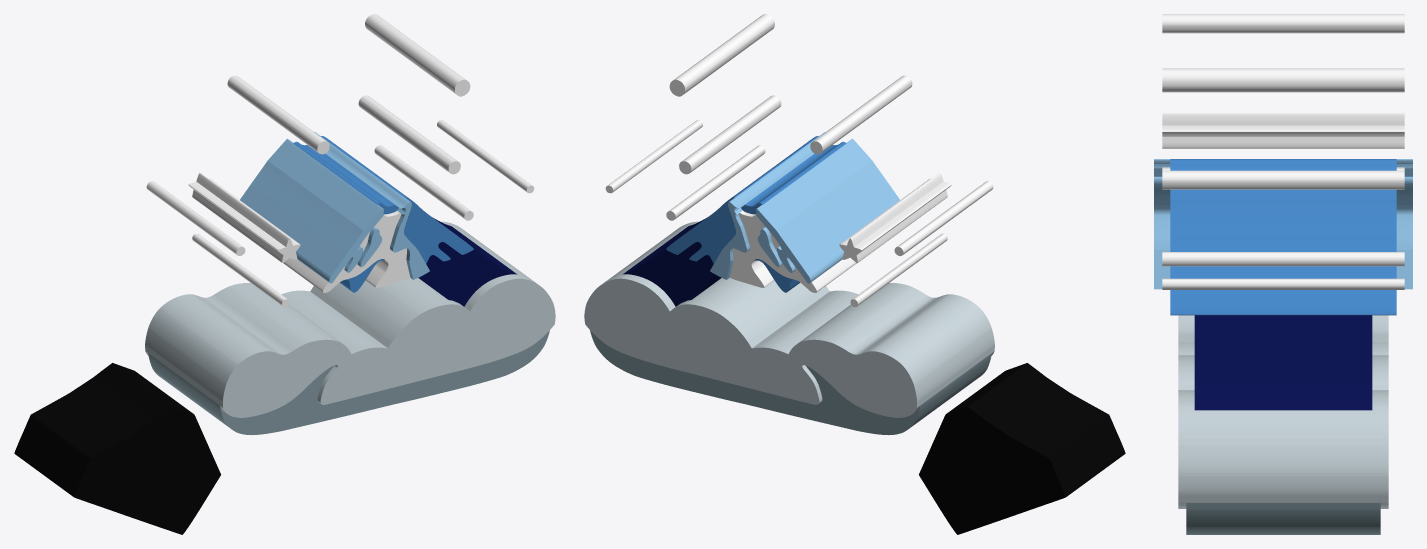
3 views of the same model, side by side, from view 1: azimuth 30°, elevation 25°; view 2: azimuth 150°, elevation 25°; view 3: azimuth 270°, elevation 25° (orthographic). The views are drawn at different scales.
Parts seen in each view (by area): view 1: U+1F5FB_layer03_obj00, U+1F5FB_layer00_obj00, U+1F5FB_layer06_obj02, U+1F5FB_layer02_obj00, U+1F5FB_layer04_obj00, U+1F5FB_layer01_obj00, U+1F5FB_layer05_obj07, U+1F5FB_layer05_obj00, U+1F5FB_layer06_obj00, U+1F5FB_layer05_obj01, U+1F5FB_layer05_obj08, U+1F5FB_layer05_obj05 (+4 smaller); view 2: U+1F5FB_layer03_obj00, U+1F5FB_layer00_obj00, U+1F5FB_layer06_obj02, U+1F5FB_layer02_obj00, U+1F5FB_layer04_obj00, U+1F5FB_layer01_obj00, U+1F5FB_layer05_obj07, U+1F5FB_layer05_obj00, U+1F5FB_layer06_obj00, U+1F5FB_layer05_obj01, U+1F5FB_layer05_obj08, U+1F5FB_layer05_obj05 (+4 smaller); view 3: U+1F5FB_layer04_obj00, U+1F5FB_layer03_obj00, U+1F5FB_layer01_obj00, U+1F5FB_layer05_obj07, U+1F5FB_layer02_obj00, U+1F5FB_layer05_obj01, U+1F5FB_layer05_obj05, U+1F5FB_layer05_obj08, U+1F5FB_layer05_obj02, U+1F5FB_layer06_obj00, U+1F5FB_layer05_obj04, U+1F5FB_layer06_obj02.
Part boxes in pixels (box(x1,y1,x2,y2)): U+1F5FB_layer03_obj00: box(145, 221, 555, 417); U+1F5FB_layer00_obj00: box(14, 363, 220, 534); U+1F5FB_layer06_obj02: box(240, 138, 383, 283); U+1F5FB_layer02_obj00: box(148, 330, 549, 435); U+1F5FB_layer04_obj00: box(293, 136, 473, 263); U+1F5FB_layer01_obj00: box(418, 218, 517, 306); U+1F5FB_layer05_obj07: box(188, 173, 300, 262); U+1F5FB_layer05_obj00: box(283, 211, 410, 292); U+1F5FB_layer06_obj00: box(314, 132, 429, 279); U+1F5FB_layer05_obj01: box(365, 14, 470, 96); U+1F5FB_layer05_obj08: box(227, 75, 329, 154); U+1F5FB_layer05_obj05: box(358, 95, 460, 174); U+1F5FB_layer03_obj00: box(584, 221, 994, 417); U+1F5FB_layer00_obj00: box(919, 363, 1125, 534); U+1F5FB_layer06_obj02: box(756, 138, 899, 283); U+1F5FB_layer02_obj00: box(590, 330, 991, 435); U+1F5FB_layer04_obj00: box(666, 136, 846, 263); U+1F5FB_layer01_obj00: box(622, 218, 721, 306); U+1F5FB_layer05_obj07: box(839, 173, 951, 262); U+1F5FB_layer05_obj00: box(729, 211, 856, 292); U+1F5FB_layer06_obj00: box(710, 132, 825, 279); U+1F5FB_layer05_obj01: box(669, 14, 774, 96); U+1F5FB_layer05_obj08: box(810, 75, 912, 154); U+1F5FB_layer05_obj05: box(679, 95, 781, 174); U+1F5FB_layer04_obj00: box(1170, 159, 1396, 315); U+1F5FB_layer03_obj00: box(1178, 315, 1388, 508); U+1F5FB_layer01_obj00: box(1194, 315, 1372, 410); U+1F5FB_layer05_obj07: box(1162, 112, 1404, 148); U+1F5FB_layer02_obj00: box(1186, 503, 1380, 534); U+1F5FB_layer05_obj01: box(1162, 68, 1404, 92); U+1F5FB_layer05_obj05: box(1162, 170, 1404, 189); U+1F5FB_layer05_obj08: box(1162, 14, 1404, 33); U+1F5FB_layer05_obj02: box(1162, 252, 1404, 266); U+1F5FB_layer06_obj00: box(1154, 176, 1412, 289); U+1F5FB_layer05_obj04: box(1162, 278, 1404, 289); U+1F5FB_layer06_obj02: box(1154, 159, 1412, 176).
Size of the model in its own units: 0.4555 by 0.3697 by 0.16.
